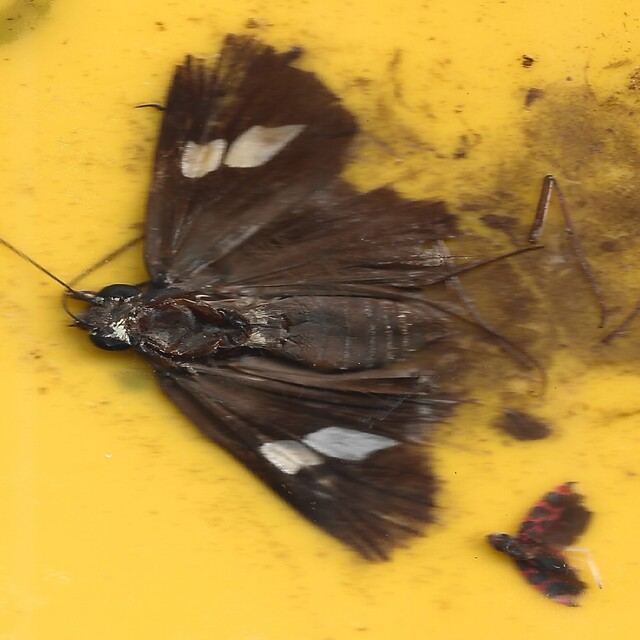Hemiptera: (482, 480, 594, 608)
Lepidoptera: (46, 32, 465, 569)
